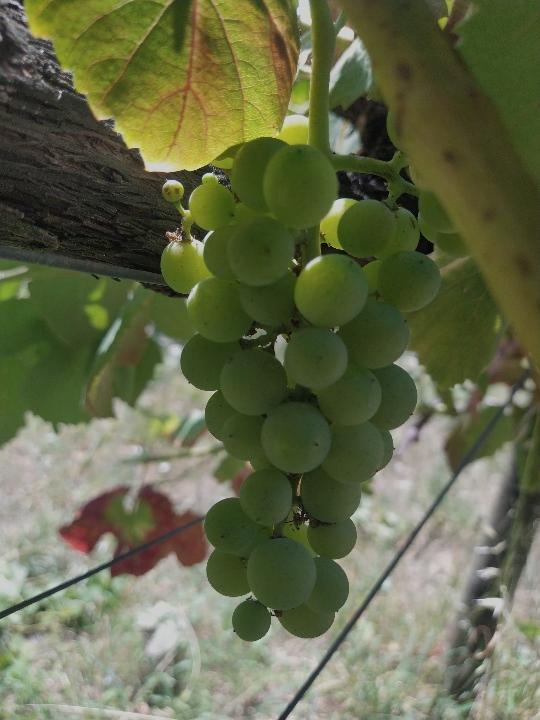grape: (159, 116, 469, 641)
